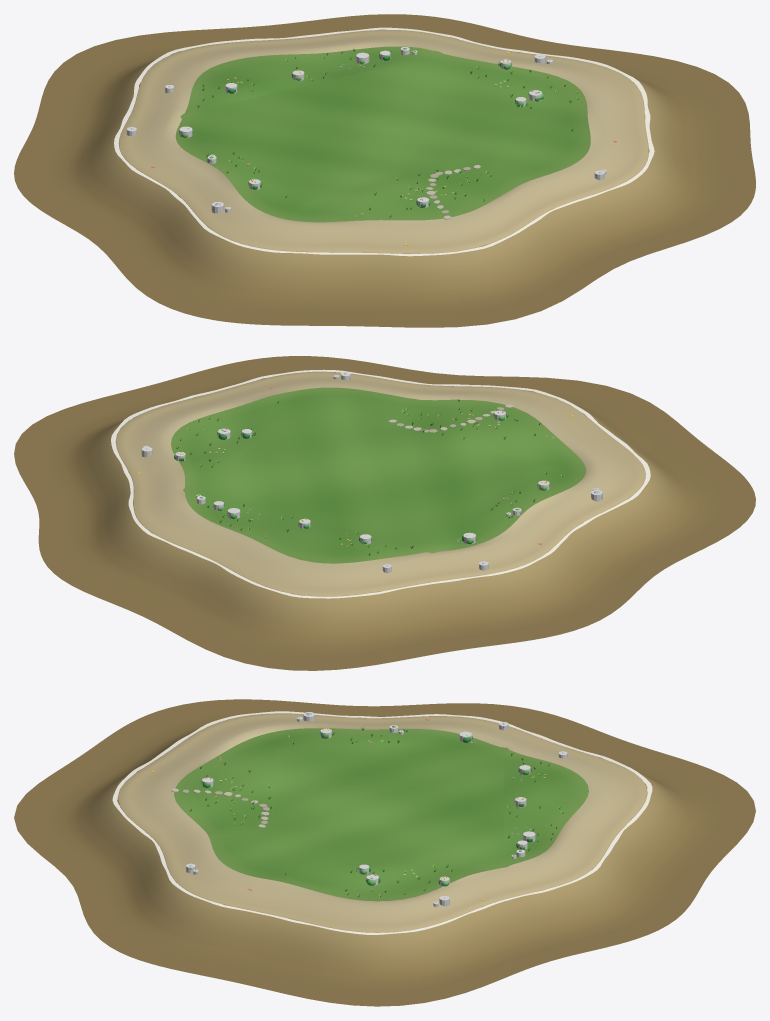
Rendered from terreno.glb.
3 renders of one model, top to bottom at view 1: azimuth 30°, elevation 25°; view 2: azimuth 150°, elevation 25°; view 3: azimuth 270°, elevation 25°, orthographic. The views are drawn at different scales.
Parts seen in each view (by area): view 1: chao, chao-do-lote, espuma, enfeites; view 2: chao, chao-do-lote, espuma, enfeites; view 3: chao, chao-do-lote, espuma, enfeites.
Part boxes in pixels (x1=…): chao: x1=14, y1=14, x2=755, y2=327; chao-do-lote: x1=185, y1=53, x2=555, y2=202; espuma: x1=114, y1=27, x2=654, y2=256; enfeites: x1=130, y1=47, x2=616, y2=245; chao: x1=14, y1=356, x2=755, y2=670; chao-do-lote: x1=188, y1=406, x2=546, y2=550; espuma: x1=111, y1=369, x2=650, y2=598; enfeites: x1=137, y1=373, x2=602, y2=566; chao: x1=14, y1=699, x2=755, y2=1006; chao-do-lote: x1=275, y1=747, x2=503, y2=865; espuma: x1=112, y1=711, x2=652, y2=934; enfeites: x1=151, y1=713, x2=563, y2=903.
Size of the model in its own units: 85.92 by 5.72 by 87.69.
